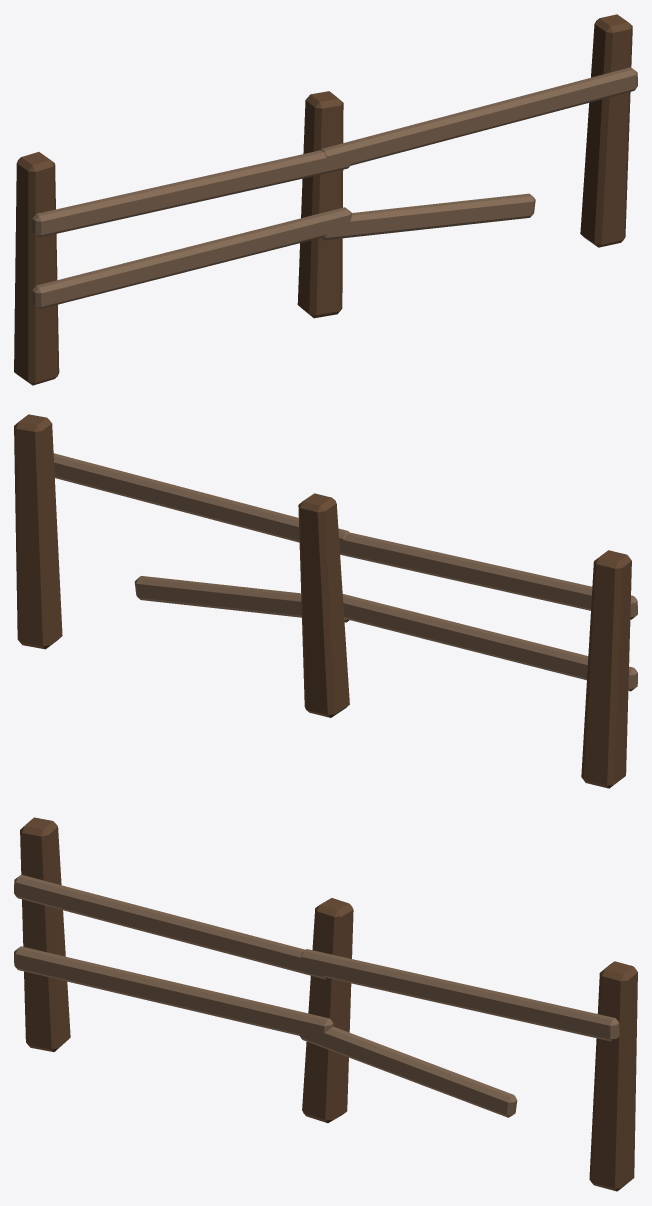
File: Fence_Section.fbx
3 renders of one model, top to bottom at view 1: azimuth 30°, elevation 25°; view 2: azimuth 150°, elevation 25°; view 3: azimuth 330°, elevation 25°, orthographic.
Visible parts, largest first — view 1: Rails, Posts; view 2: Posts, Rails; view 3: Rails, Posts.
Part boxes in pixels (x1,y1,x2,y2): Rails: (32,67,637,309); Posts: (14,14,632,385); Posts: (14,414,631,788); Rails: (53,453,637,691); Rails: (14,874,619,1117); Posts: (20,817,637,1191).
Bounding box in the file's own units: 7.96 × 2.81 × 0.6403.
